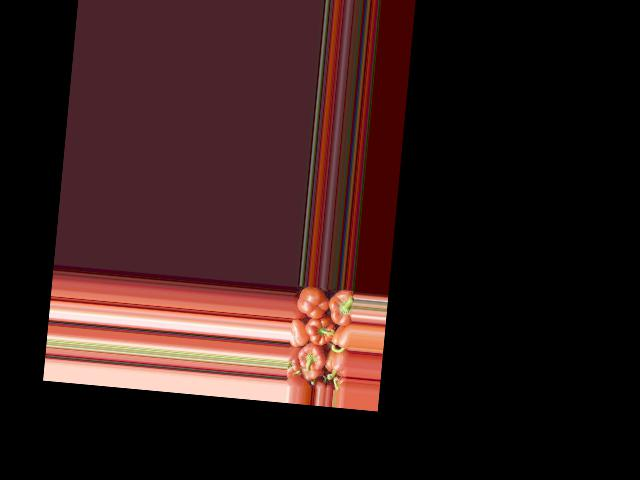bell_pepper: (290, 317, 308, 347)
